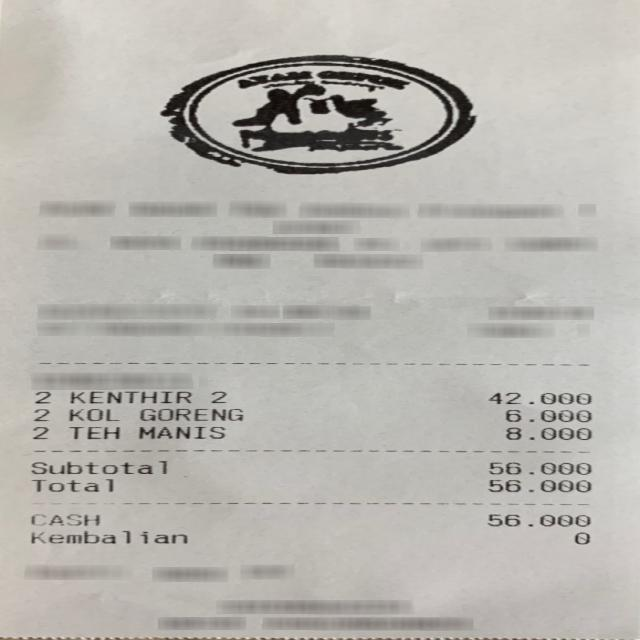text: (30, 530, 184, 543), (28, 460, 164, 474), (485, 478, 589, 492), (137, 407, 240, 420), (69, 391, 189, 402), (485, 514, 589, 526), (486, 392, 588, 404), (488, 462, 589, 474), (136, 425, 221, 438), (503, 409, 589, 421), (31, 478, 110, 491), (504, 427, 588, 439), (29, 514, 97, 525), (66, 407, 116, 420), (69, 426, 117, 438), (570, 531, 590, 544), (30, 426, 46, 438), (33, 391, 49, 402), (31, 409, 47, 420), (209, 391, 223, 402)
